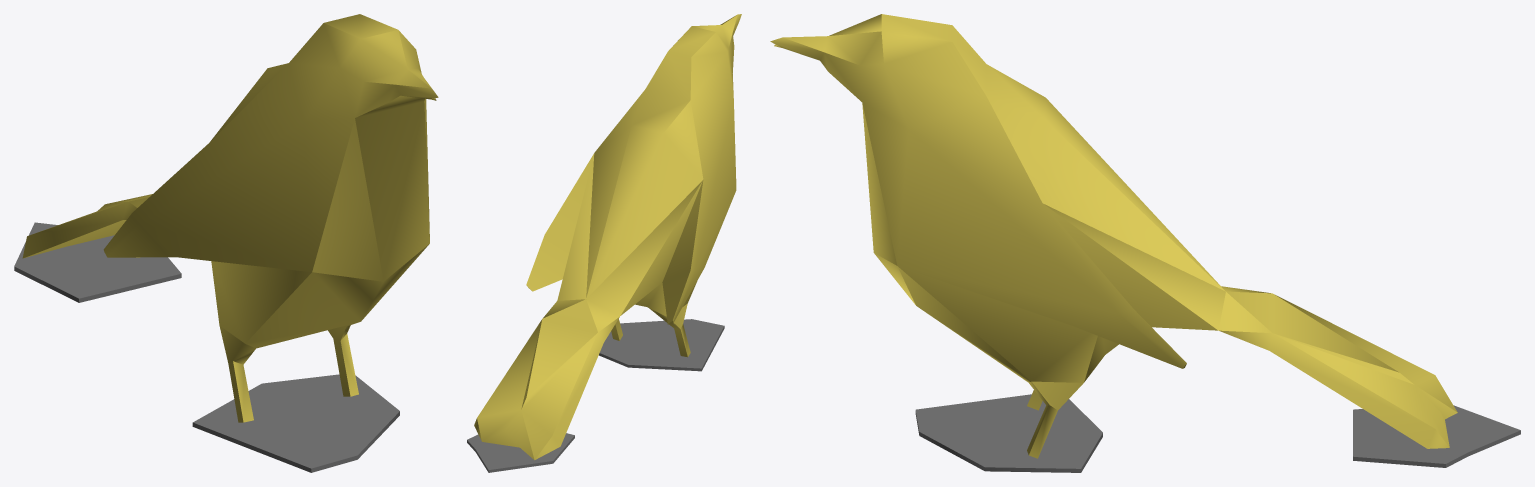
3 renders of one model, left to right at view 1: azimuth 30°, elevation 25°; view 2: azimuth 150°, elevation 25°; view 3: azimuth 270°, elevation 25°, orthographic. The views are drawn at different scales.
Parts seen in each view (by area): view 1: SM_244; view 2: SM_244; view 3: SM_244.
Boxes of the visible parts, <box> form: SM_244: <box>14,14,438,472</box>; SM_244: <box>467,14,741,472</box>; SM_244: <box>770,14,1520,472</box>.
Size of the model in its own units: 0.5496 by 1.01 by 1.67.
